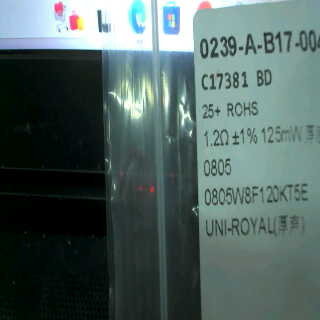1.2R: (202, 123, 230, 180)
